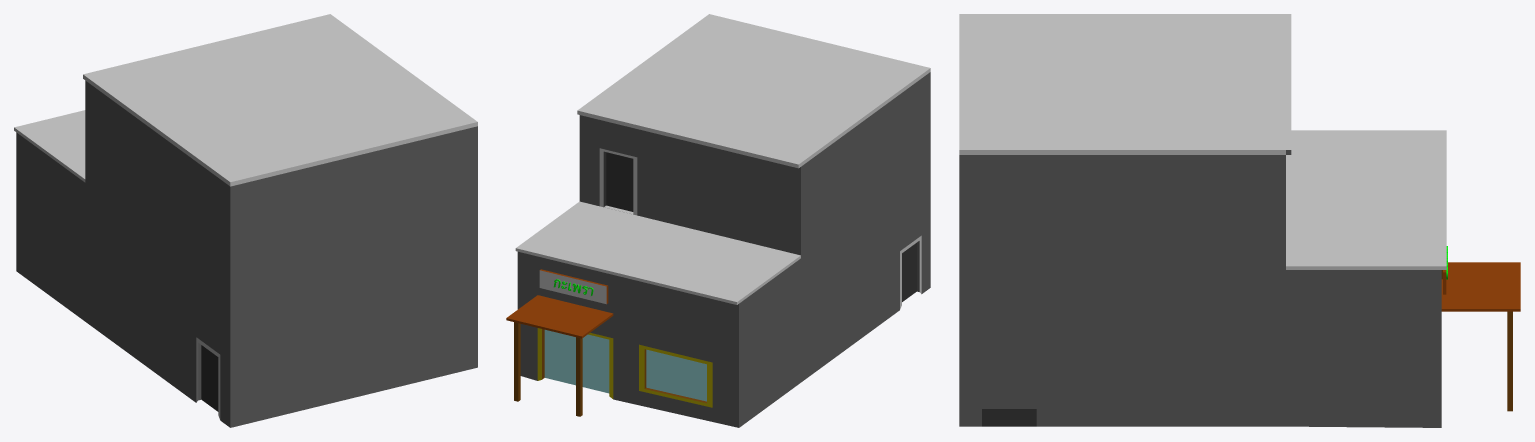
3 renders of one model, left to right at view 1: azimuth 30°, elevation 25°; view 2: azimuth 150°, elevation 25°; view 3: azimuth 270°, elevation 25°, orthographic. The views are drawn at different scales.
Parts seen in each view (by area): view 1: Cube; view 2: Cube, Cube.003; view 3: Cube.
Part boxes in pixels (left/top/right/bottom): Cube: left=14, top=14, right=477, bottom=427; Cube: left=506, top=14, right=930, bottom=427; Cube.003: left=539, top=269, right=608, bottom=304; Cube: left=959, top=14, right=1520, bottom=427.
Bounding box in the file's own units: 474 × 454 × 826.
